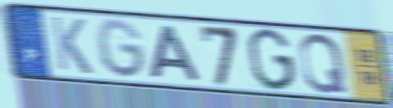7: (198, 23, 240, 88)
A: (148, 23, 204, 83)
G: (94, 17, 148, 81), (246, 26, 297, 93)
K: (48, 14, 95, 77)
Q: (297, 31, 349, 95)
